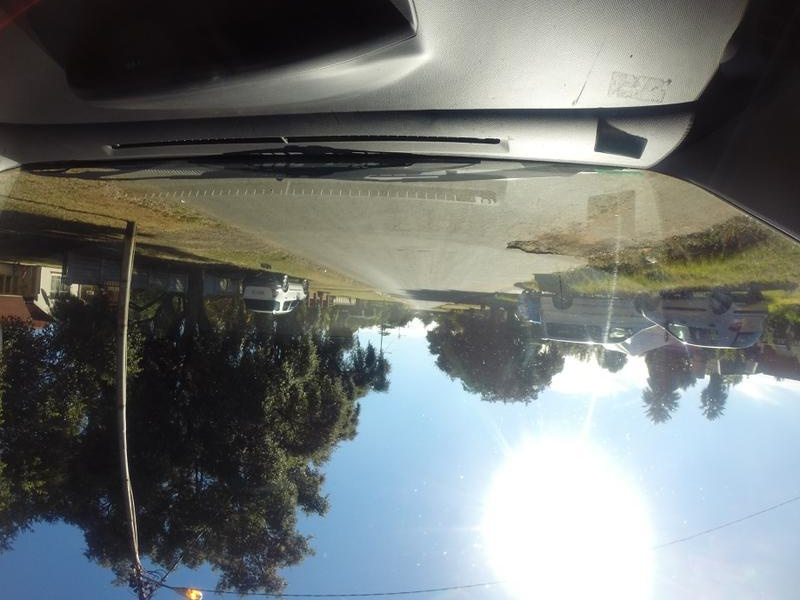pothole: (504, 226, 617, 255)
